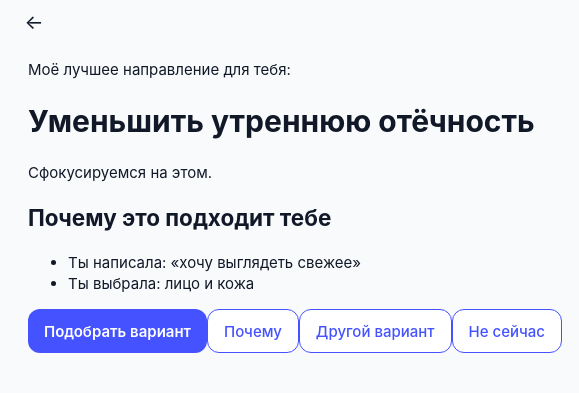
Test: действия карточки › «Другой вариант» показывает кадр C04.2 без обещания продолжения
Expected: the text "Моё лучшее направление для тебя:" is shown, [28,60,291,79]
Click the button "Другой вариант": [375, 331] box [299,309,452,353]
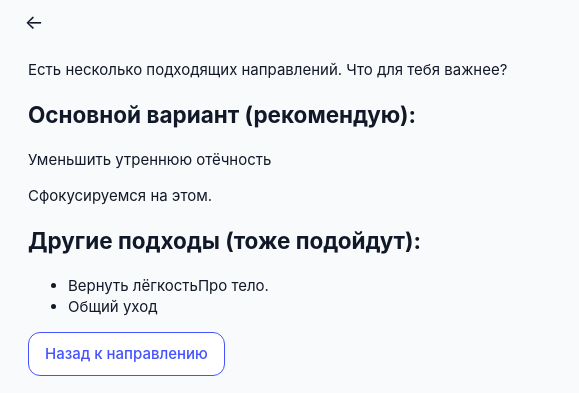
Expected: the text "Есть несколько подходящих направлений. Что для тебя важнее?" is shown, [28,60,507,79]
Expected: the heading "Основной вариант (рекомендую):" is shown, [28,101,416,128]
Expected: the heading "Другие подходы (тоже подойдут):" is shown, [28,226,421,254]
